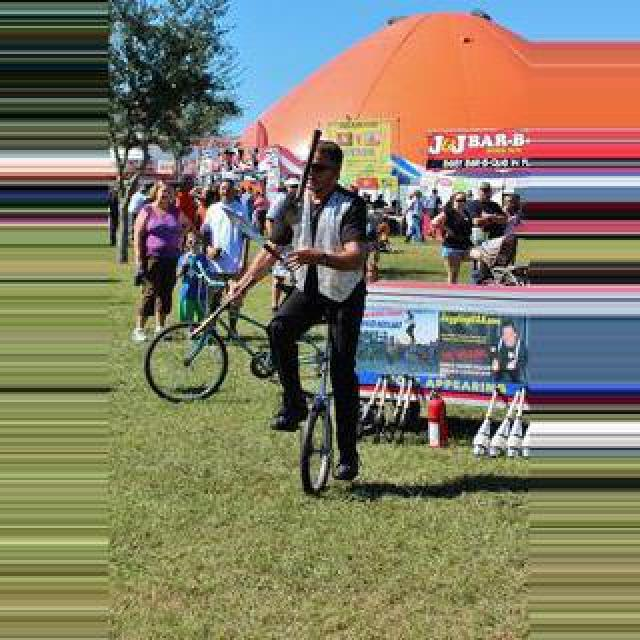MC-Bike: (244, 138, 374, 454), (184, 180, 250, 342), (130, 182, 186, 342), (474, 320, 528, 396), (468, 186, 508, 284), (440, 192, 472, 286)
Person: (144, 262, 334, 416), (296, 324, 360, 498)
